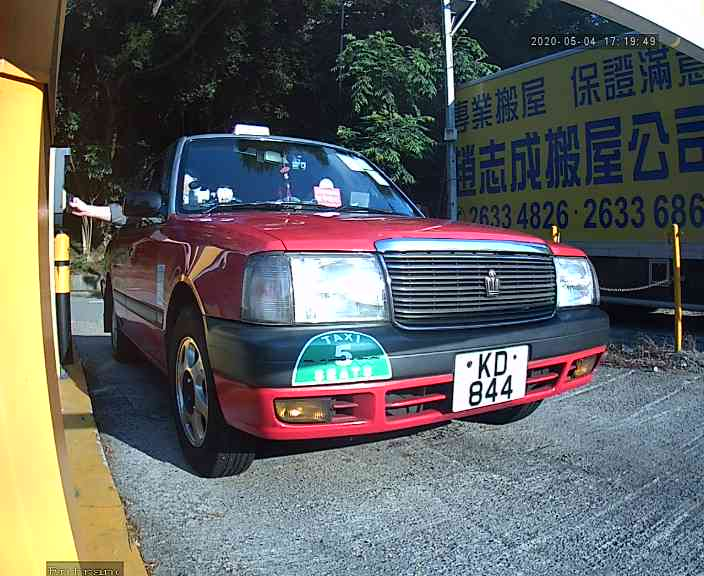taxi: (85, 111, 620, 476)
taxi_mark: (284, 314, 414, 409)
